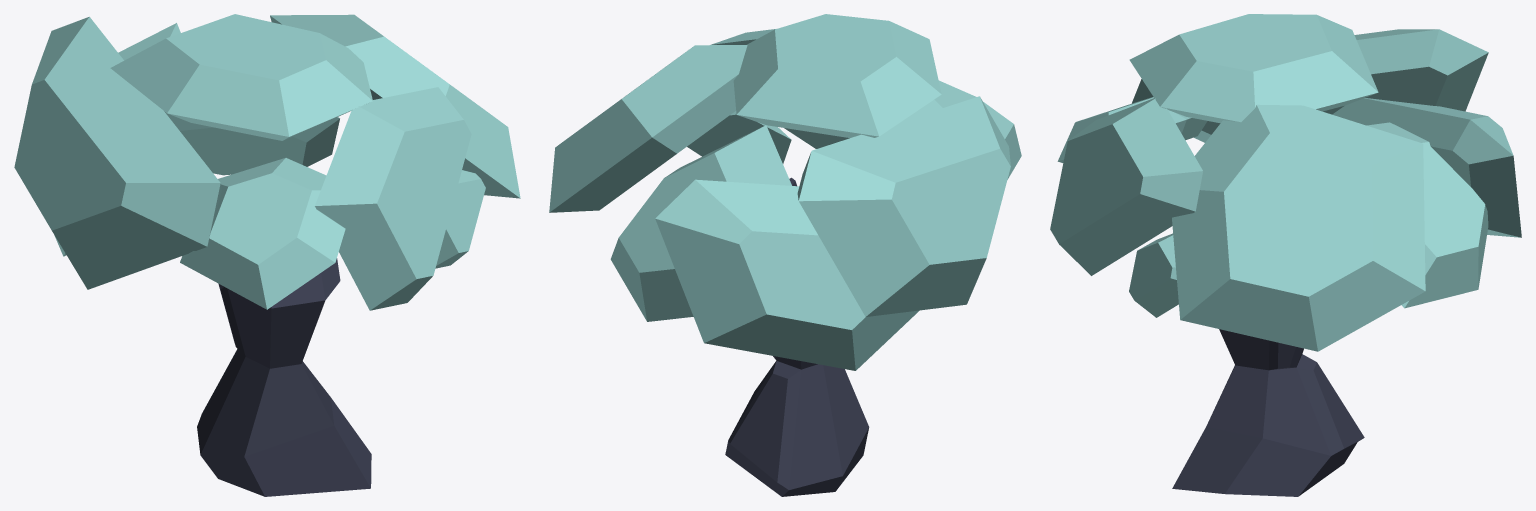
File: buisson_p02.fbx
3 views of the same model, side by side, from view 1: azimuth 30°, elevation 25°; view 2: azimuth 150°, elevation 25°; view 3: azimuth 270°, elevation 25° (orthographic). The views are drawn at different scales.
Visible parts, largest first — view 1: Buisson_phase02; view 2: Buisson_phase02; view 3: Buisson_phase02.
Boxes of the visible parts, x1,y1,x2,y2 form: Buisson_phase02: [14, 14, 520, 496]; Buisson_phase02: [549, 14, 1021, 496]; Buisson_phase02: [1050, 14, 1521, 496].
Size of the model in its own units: 89.04 by 86.76 by 87.21.
